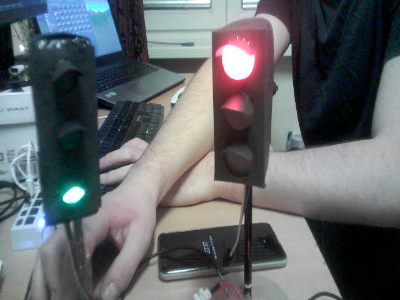trafficlight_green: (43, 44, 100, 213)
trafficlight_red: (214, 32, 260, 180)
